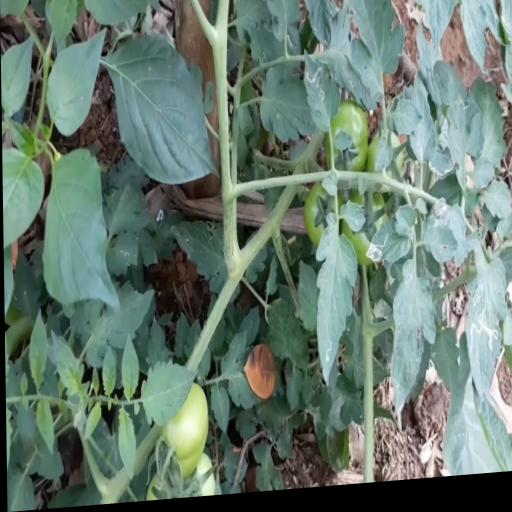Healthy: (140, 359, 197, 430)
Leaf_Miner: (314, 215, 358, 394), (464, 264, 508, 405), (302, 51, 339, 141), (364, 219, 410, 272), (428, 159, 454, 186)
